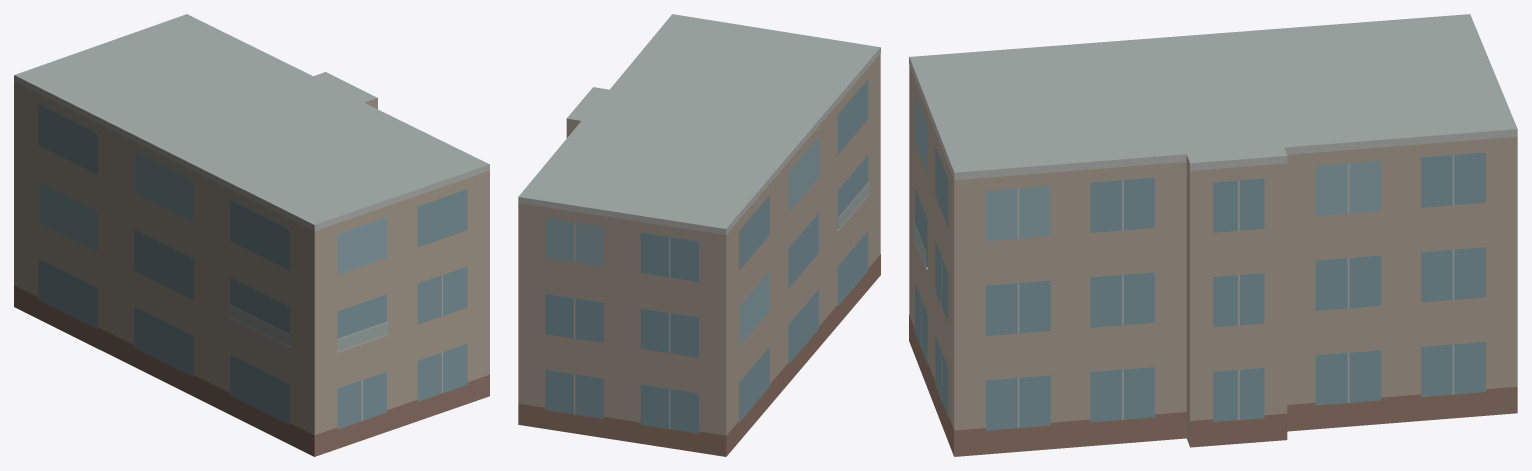
The model's file is survey-upis-32561425.glb.
The picture shows the model from 3 angles, left to right: view 1: azimuth 30°, elevation 25°; view 2: azimuth 150°, elevation 25°; view 3: azimuth 270°, elevation 25°; orthographic projection. The views are drawn at different scales.
Parts seen in each view (by area): view 1: survey-upis-32561425.tmp; view 2: survey-upis-32561425.tmp; view 3: survey-upis-32561425.tmp.
Part boxes in pixels (bbox=[...]): survey-upis-32561425.tmp: bbox=[14, 14, 489, 456]; survey-upis-32561425.tmp: bbox=[518, 14, 880, 456]; survey-upis-32561425.tmp: bbox=[909, 14, 1517, 456].
Size of the model in its own units: 10.97 by 9.15 by 17.77.
